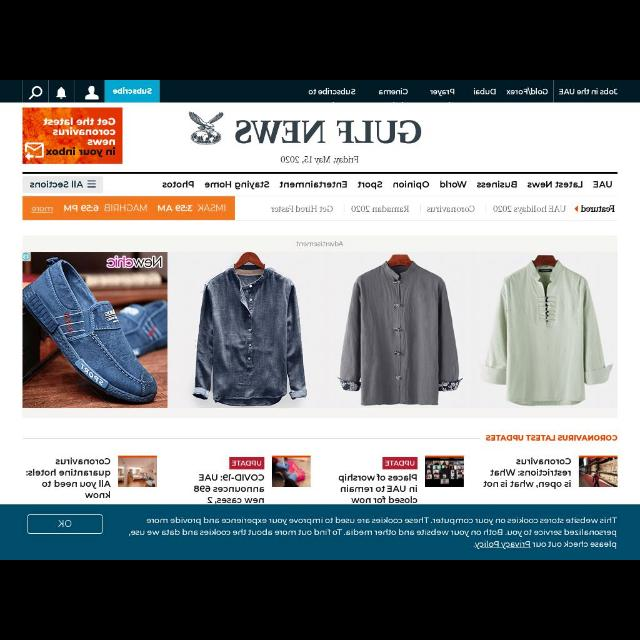icon: (85, 86, 98, 100), (30, 88, 42, 99), (56, 86, 66, 98), (86, 180, 95, 188)
iframe: (21, 238, 616, 418)
image: (22, 107, 124, 163), (119, 457, 158, 488), (188, 112, 225, 144), (580, 456, 618, 486), (426, 455, 464, 485), (273, 456, 311, 486)
multitab: (22, 172, 616, 194), (236, 198, 572, 222)
text: (128, 516, 616, 550), (235, 120, 421, 144), (26, 456, 110, 499), (483, 458, 571, 488), (338, 474, 416, 504), (193, 474, 264, 504), (278, 181, 348, 191), (281, 156, 359, 164), (494, 206, 566, 214), (270, 204, 332, 213), (485, 436, 617, 440), (104, 202, 148, 214), (30, 181, 82, 191), (206, 180, 270, 188), (350, 206, 410, 214), (560, 88, 618, 96), (528, 180, 582, 188), (426, 207, 474, 216), (158, 204, 192, 216), (308, 88, 356, 96), (394, 179, 430, 189), (113, 89, 151, 98), (581, 204, 615, 214), (507, 88, 549, 96), (198, 202, 226, 214), (477, 180, 518, 188), (65, 204, 99, 212), (162, 181, 195, 189), (439, 180, 467, 188), (592, 180, 614, 190), (430, 88, 456, 96), (379, 90, 409, 96), (31, 206, 53, 214), (474, 88, 496, 95), (358, 182, 382, 188), (56, 522, 74, 528)
textbutton: (23, 176, 103, 194), (28, 514, 102, 532), (104, 80, 160, 102)
toolbar: (1, 80, 639, 102)
